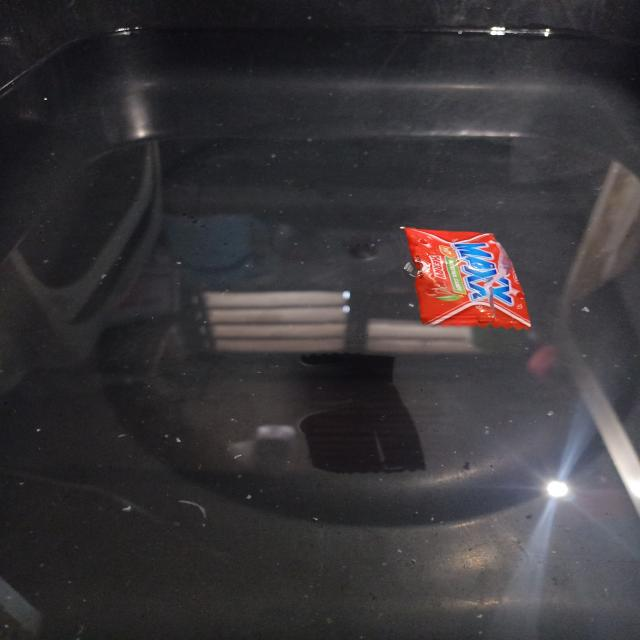Plastic Wrapper: (401, 227, 530, 330)
